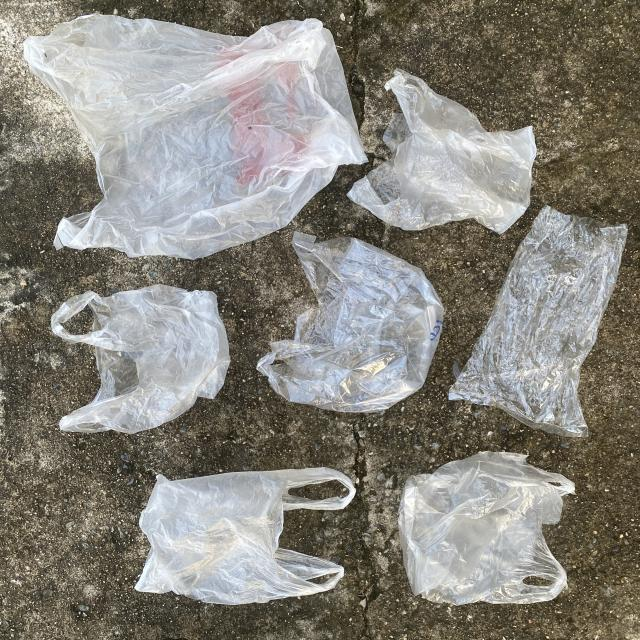Single-layer Plastic: (24, 14, 366, 259), (449, 206, 628, 438), (258, 232, 444, 412), (348, 70, 536, 234), (135, 468, 355, 605), (399, 451, 575, 605), (51, 285, 230, 434)
